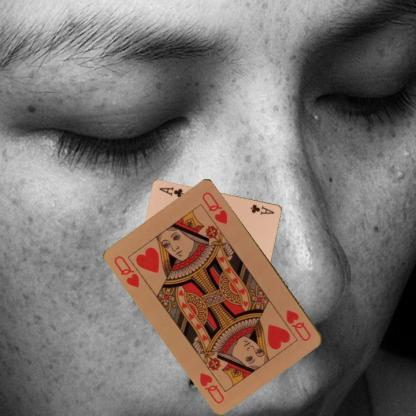Ac: (248, 202, 275, 216)
Qh: (283, 306, 313, 342), (112, 253, 141, 289)
